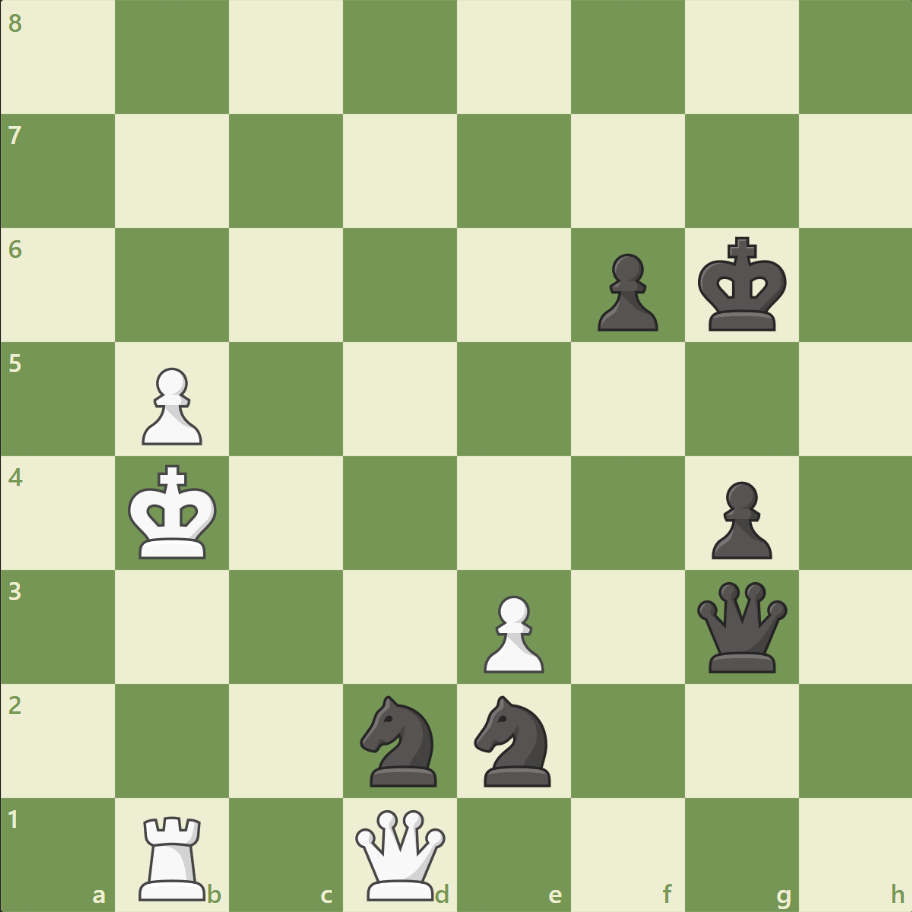K: (124, 458, 224, 566)
P: (133, 359, 208, 450), (474, 586, 549, 677)
Q: (351, 804, 450, 903)
R: (133, 806, 215, 904)
k: (692, 231, 792, 339)
n: (351, 688, 449, 791), (465, 688, 562, 791)
p: (701, 473, 776, 564), (588, 246, 662, 337)
q: (691, 576, 790, 676)
